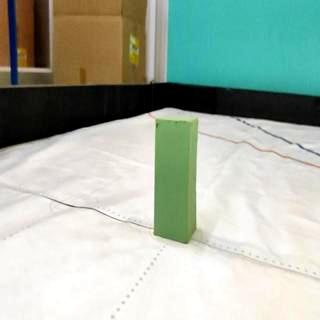greenbox: (152, 114, 198, 246)
